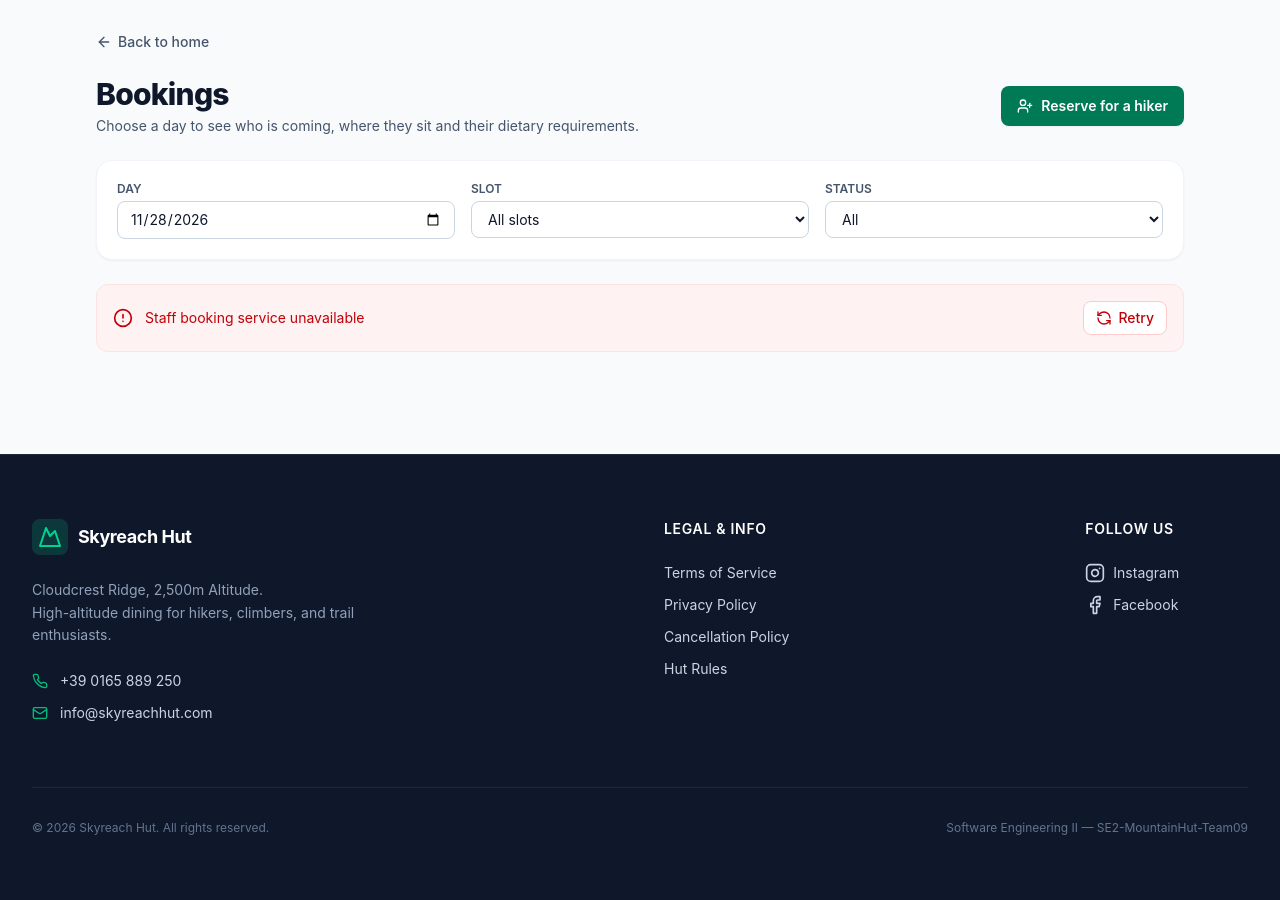
Test case: StaffBookings › shows API failures and retries the same selected filters
The width and height of the screenshot is (1280, 900).
Expected: the message shows "Staff booking service unavailable", [145, 309, 364, 326]
Click the button "Retry" at coordinates (1125, 318), box [1083, 301, 1167, 335]
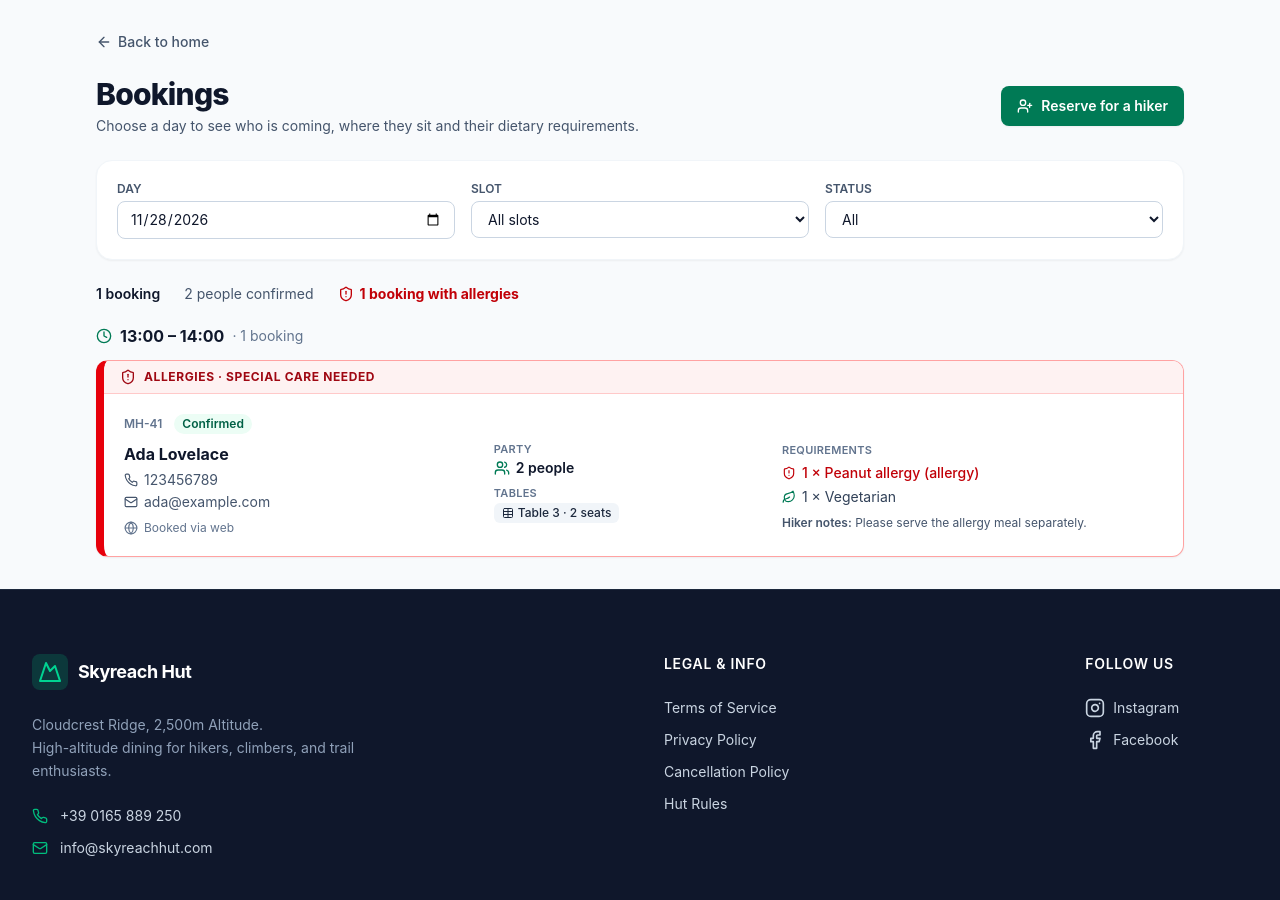
Expected: the list item with test id "staff-booking-41" is shown, [96, 360, 1184, 557]
